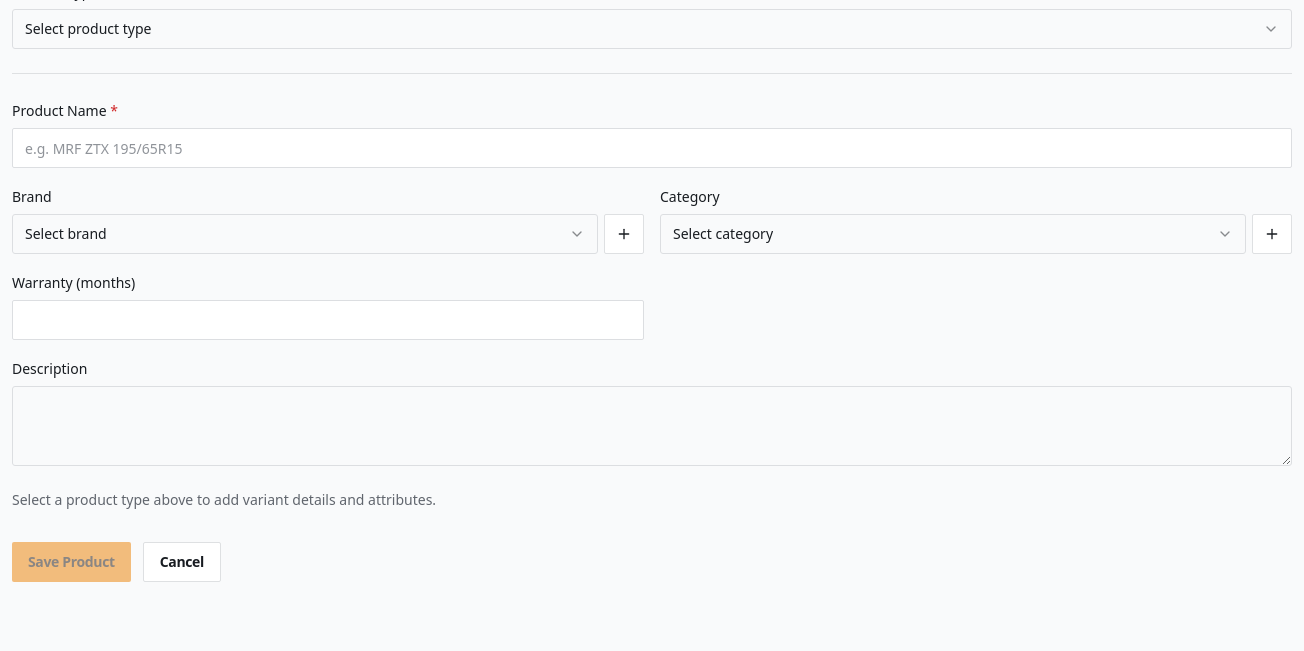
Test: ProductForm › shows attribute fields after selecting a product type
Note: Open the product type select and choose Tyre
Click the dropdown labelled "Select product type".
click(88, 28)  # box [12, 9, 1292, 49]
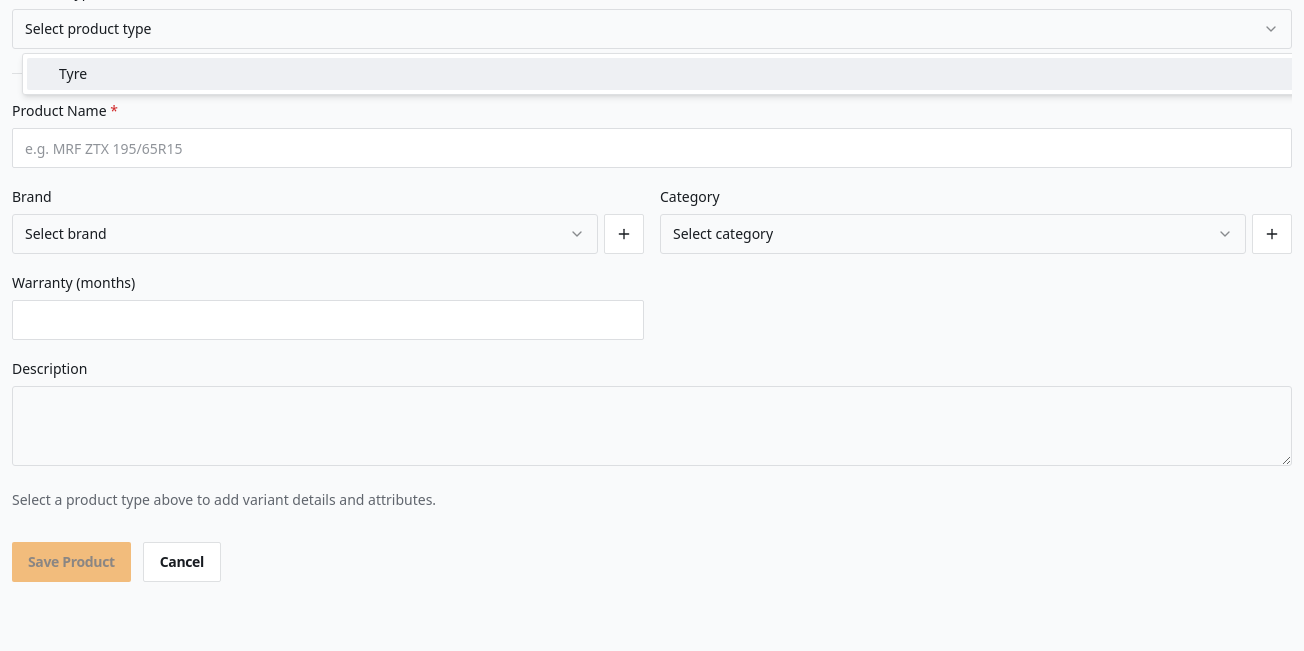
Click the option "Tyre".
click(73, 74)  # box [27, 58, 1292, 90]
(page scrolled)
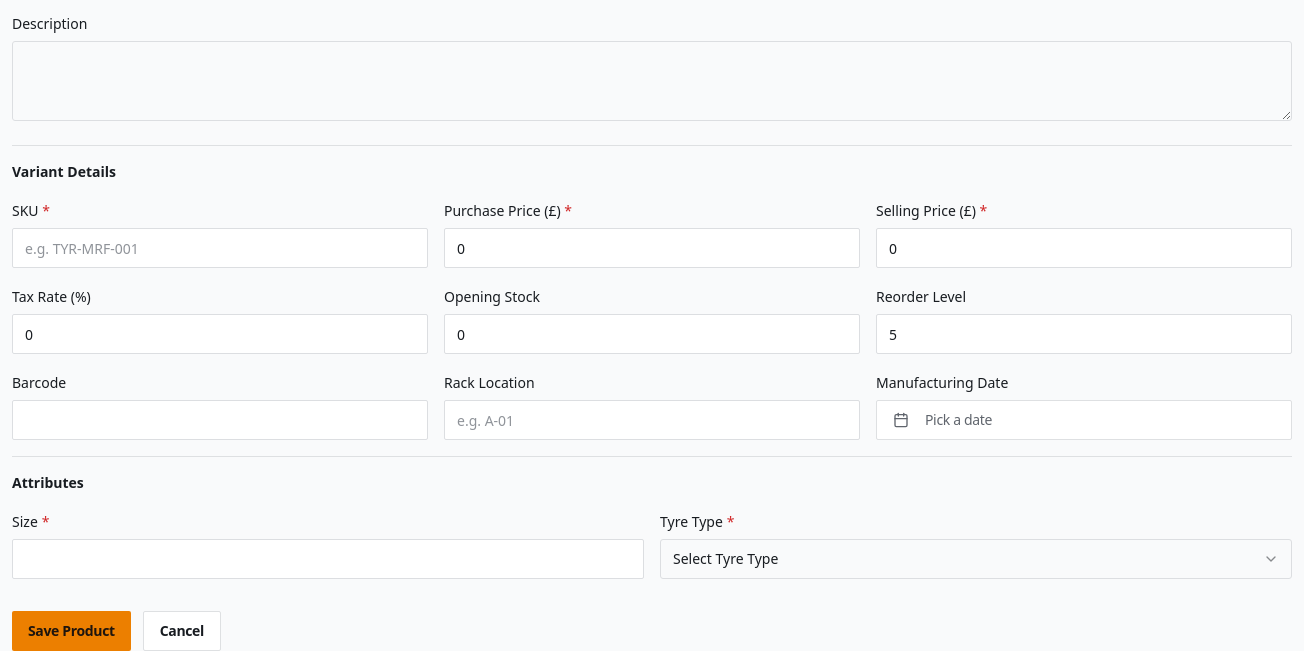
Expected: the field labelled "Size*" is shown, [12, 539, 644, 579]
Expected: the dropdown labelled "Select Tyre Type" is shown, [660, 539, 1292, 579]
